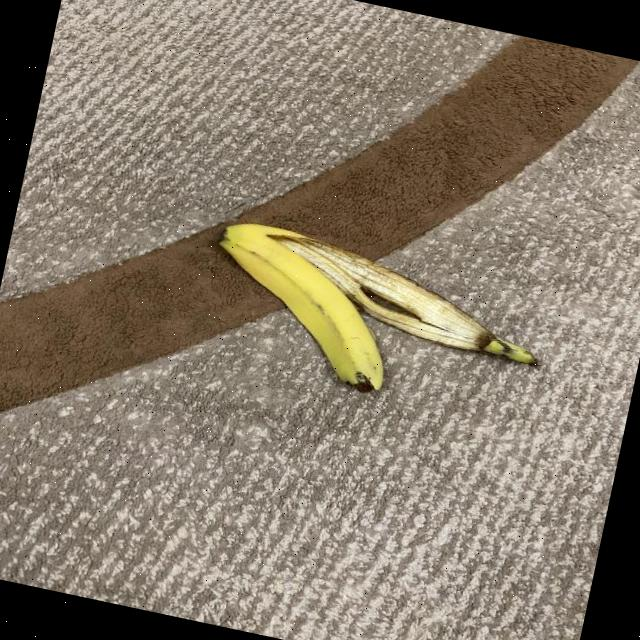banana-peel: (252, 225, 554, 366), (193, 214, 410, 396)
